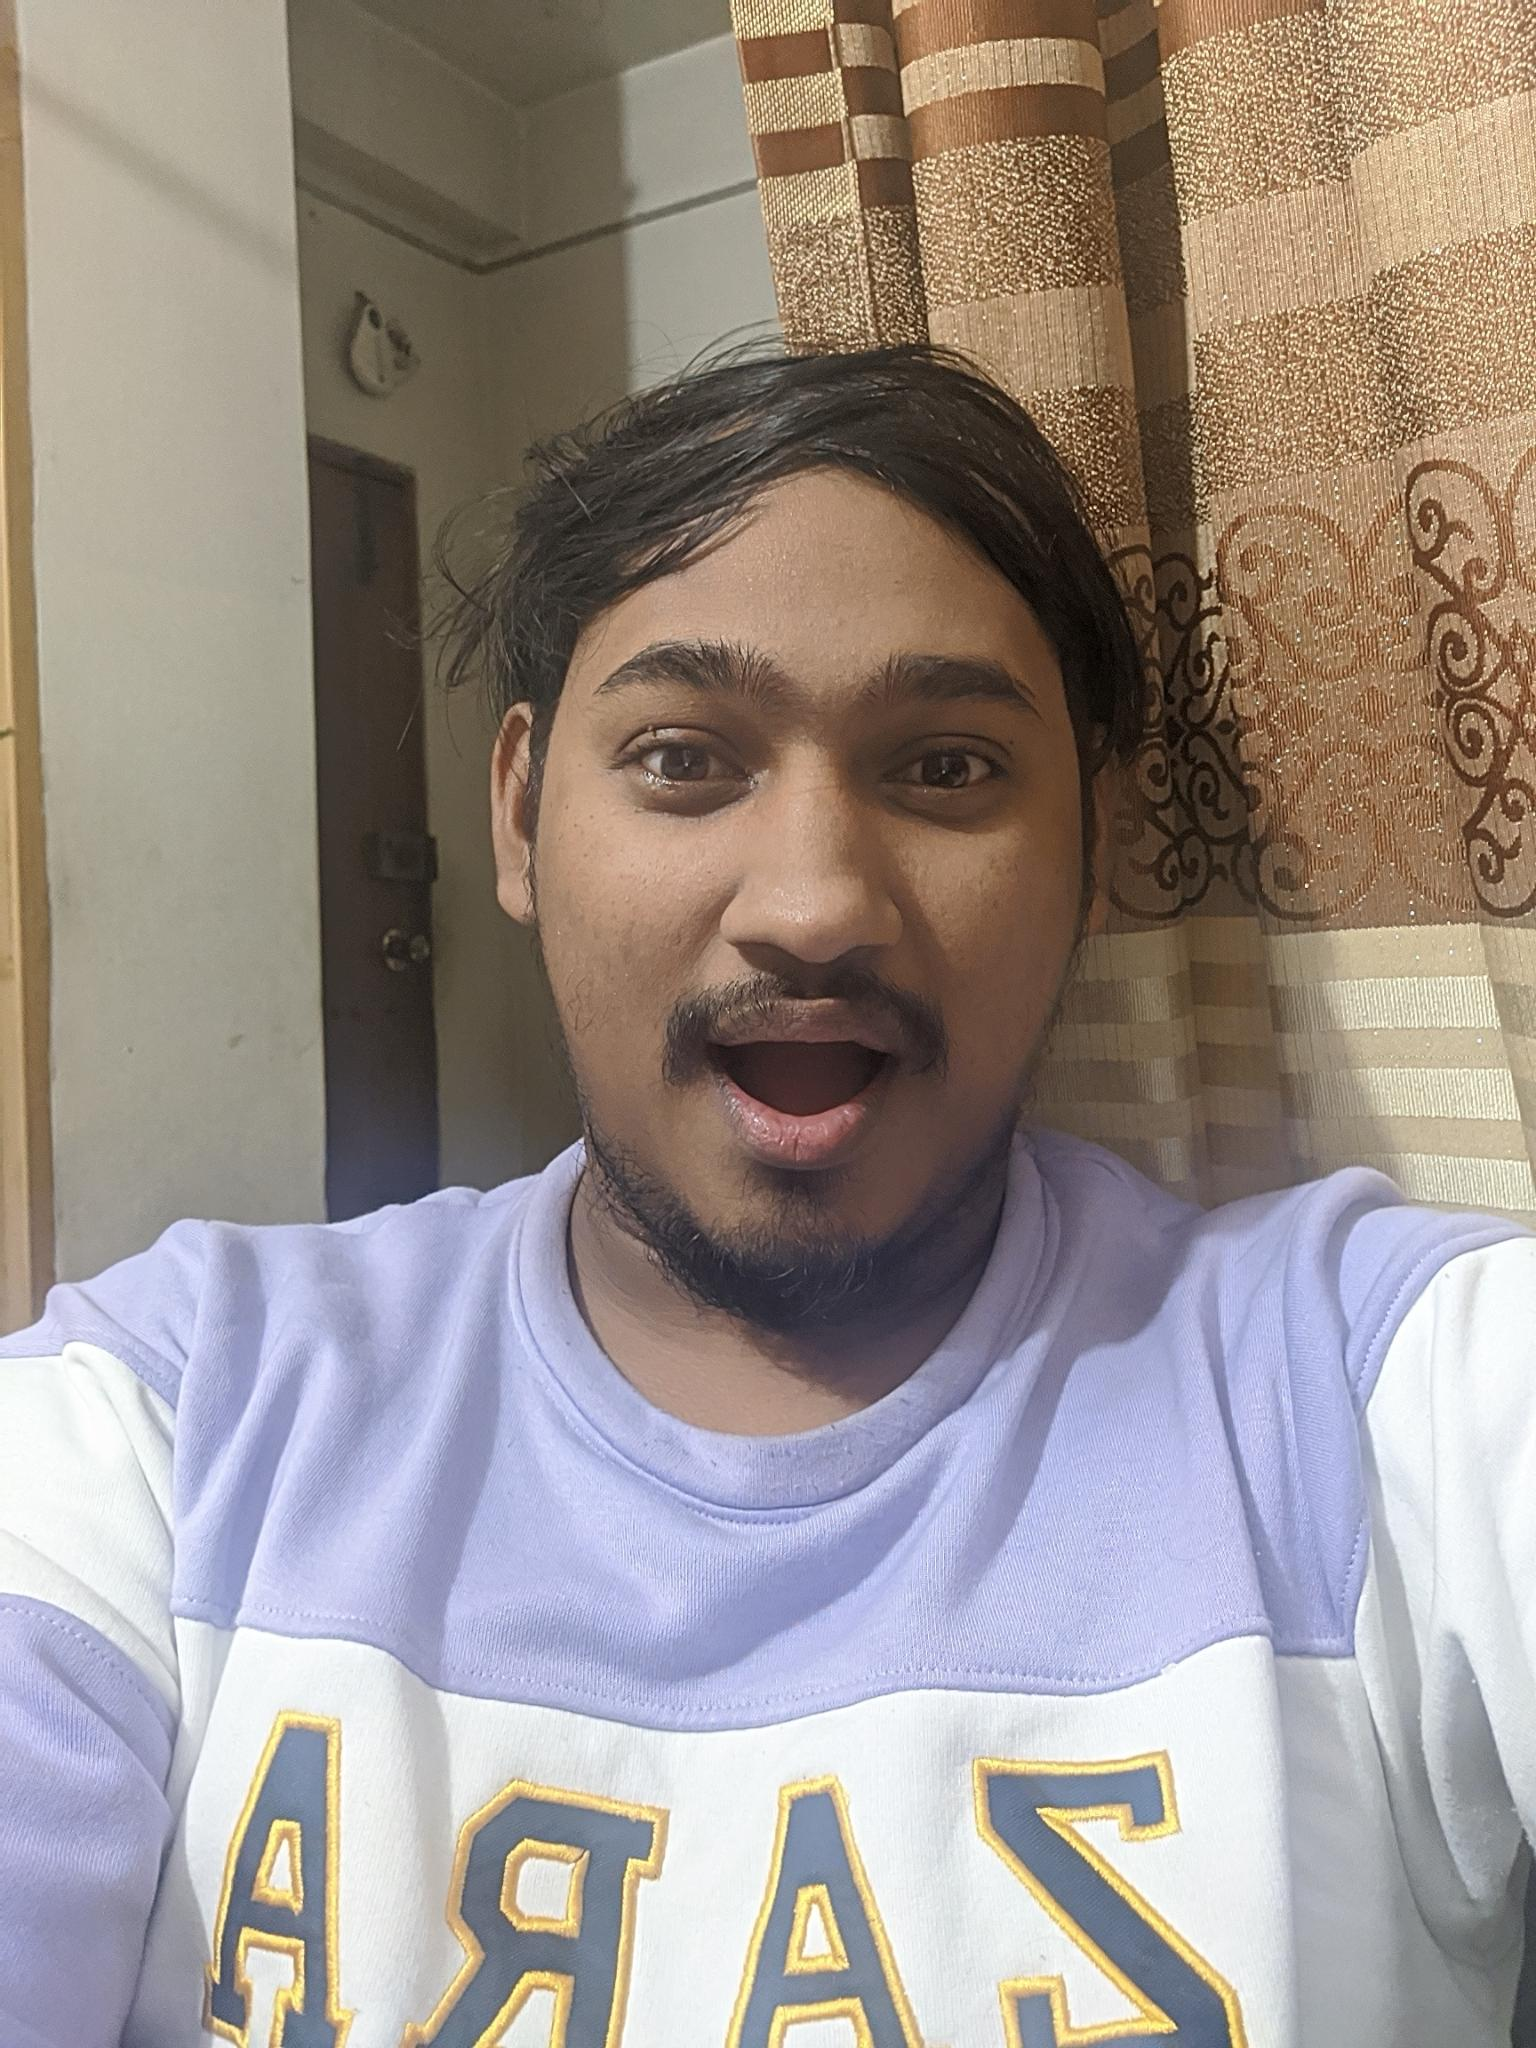Surprise: (547, 585, 1126, 1314)
